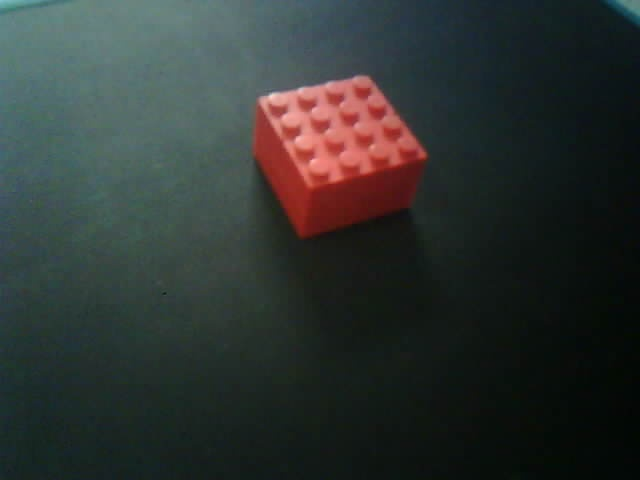lego: (252, 72, 427, 239)
